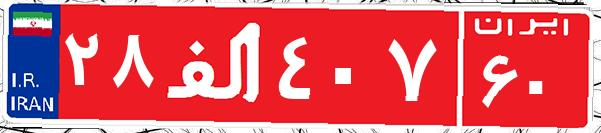0: (330, 28, 385, 110), (525, 38, 570, 115)
2: (57, 26, 110, 107)
4: (273, 28, 330, 110)
6: (475, 38, 525, 113)
7: (385, 28, 445, 110)
8: (110, 28, 158, 105)
الف: (158, 15, 273, 115)
